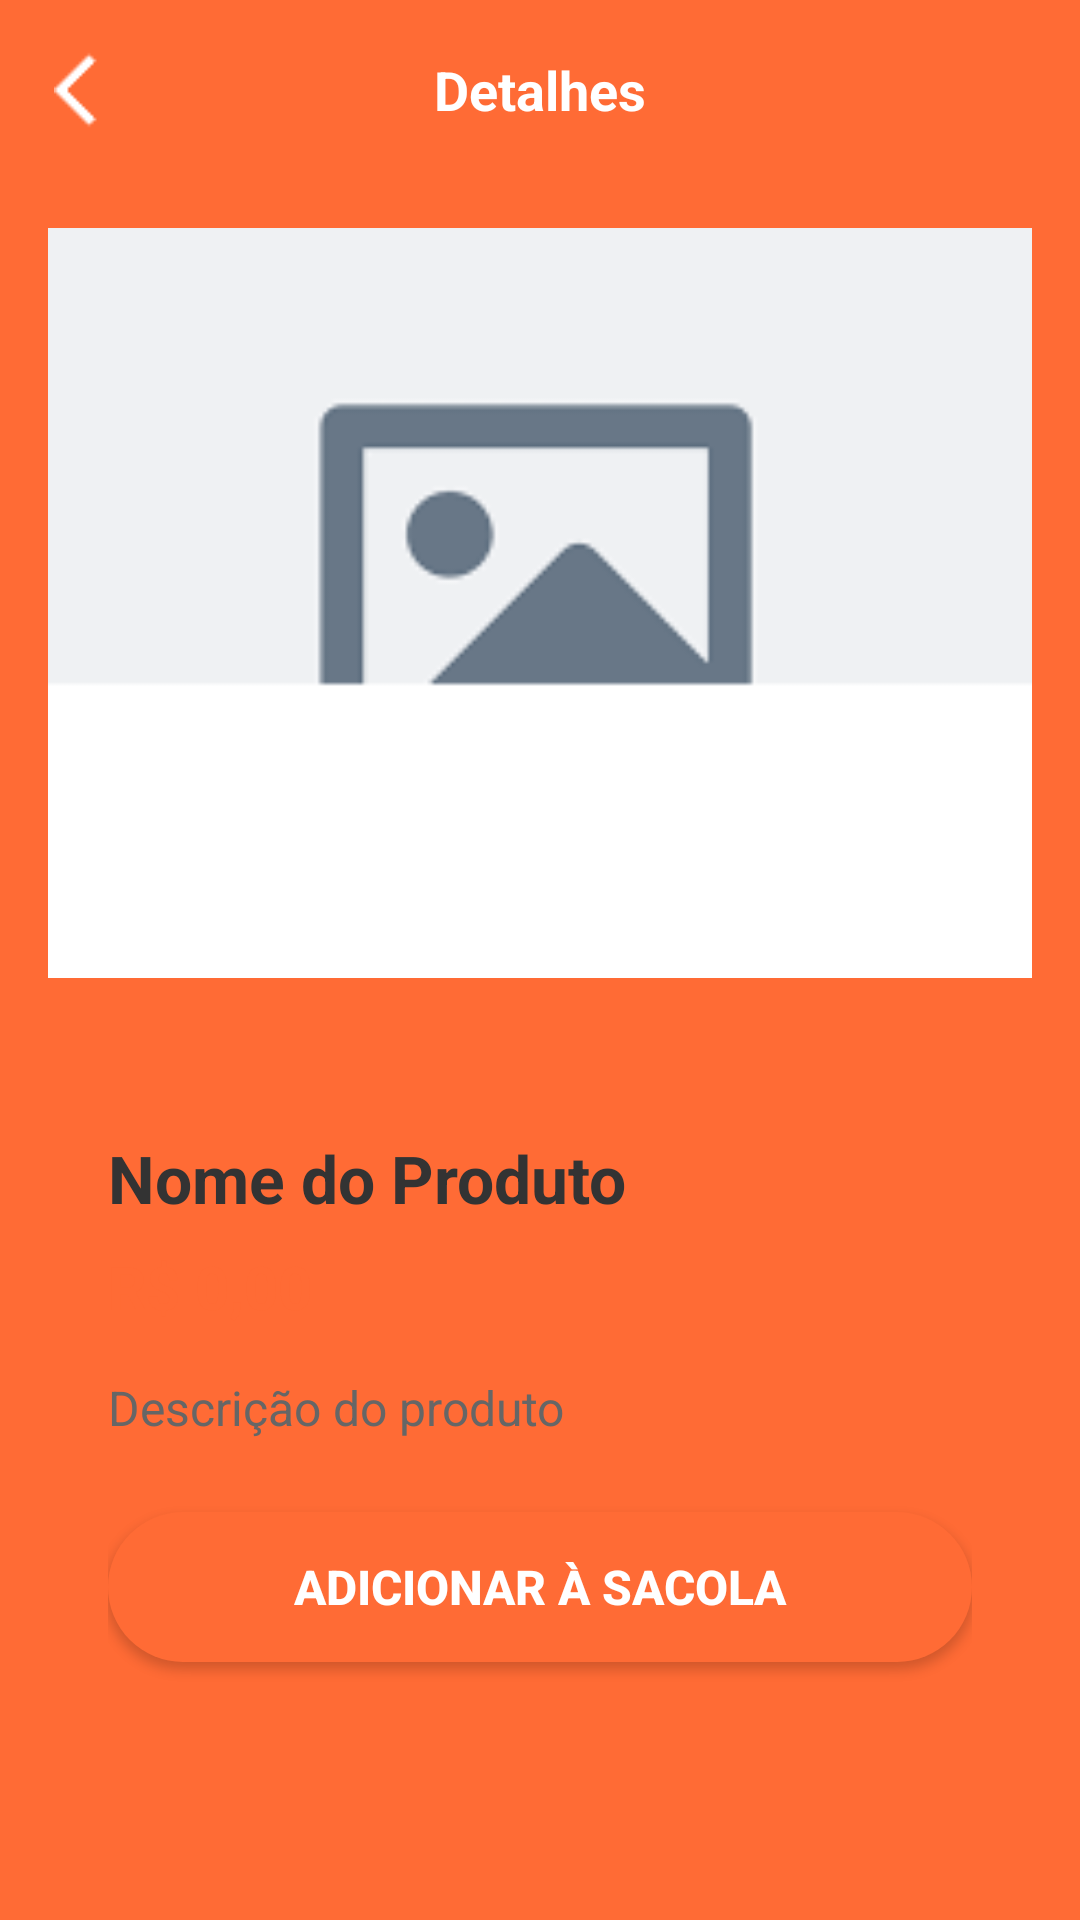

Screen size 1080x1920. Icon name, then its box in pixels as bbox(x1, y1, x2, y2):
arrow back: bbox(54, 54, 97, 126)
